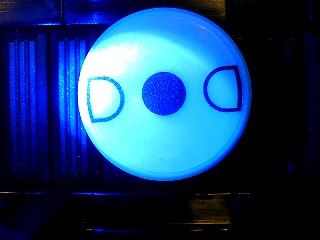BOHOMIPO2: (78, 7, 253, 181)
